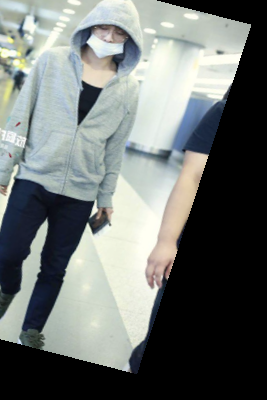mask_weared_incorrect: (68, 1, 144, 73)
